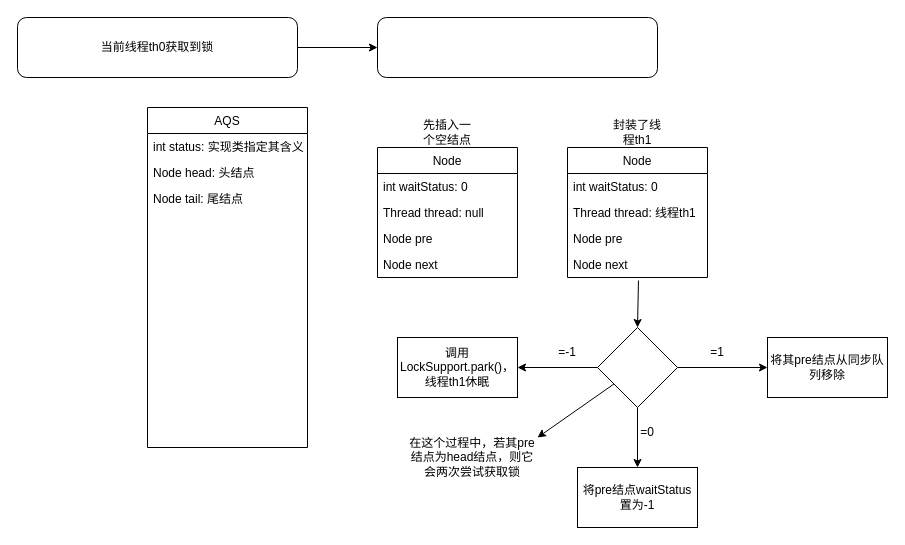
This 905x545 diagram has some shape labels left out. Each missing label, with the centre of its shape:
"前置结点waitStatus的值？" belongs at (x=637, y=367).
"线程th1尝试获取锁" belongs at (x=517, y=47).
